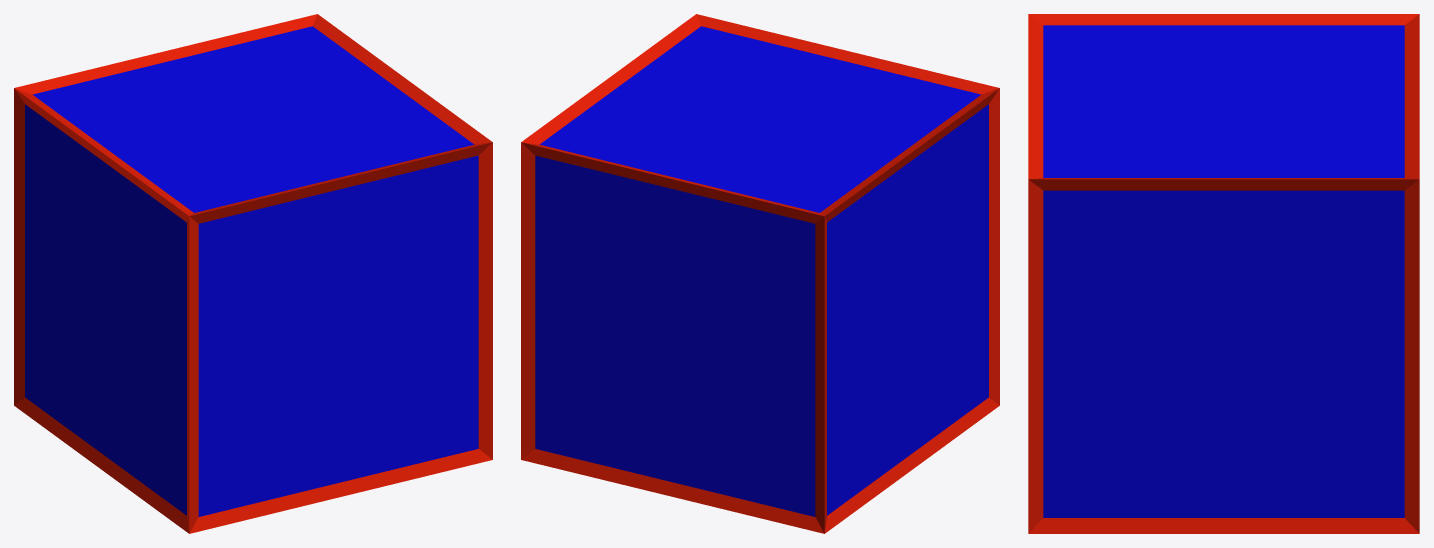
File: SFProj.fbx
3 renders of one model, left to right at view 1: azimuth 30°, elevation 25°; view 2: azimuth 150°, elevation 25°; view 3: azimuth 270°, elevation 25°, orthographic. The views are drawn at different scales.
Parts seen in each view (by area): view 1: Cube.001; view 2: Cube.001; view 3: Cube.001.
Part boxes in pixels (box(x1,y1,x2,y2)): Cube.001: box(14, 14, 492, 533); Cube.001: box(521, 14, 999, 533); Cube.001: box(1028, 14, 1419, 533).
Size of the model in its own units: 206 by 206 by 206.
